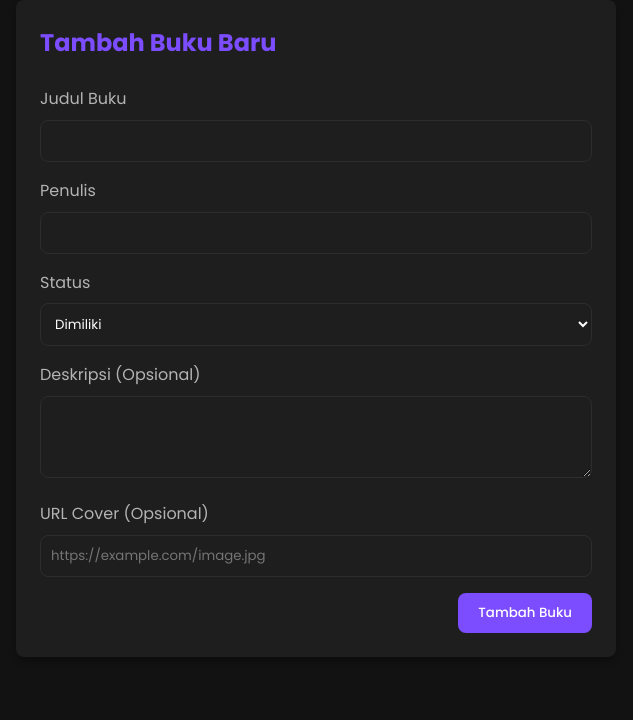
BookForm Component › clears validation errors when user types in fields
# Submit form without filling required fields to trigger validation
Click the button "Tambah Buku" at (525, 613), box top-left (458, 593), bottom-right (592, 633)
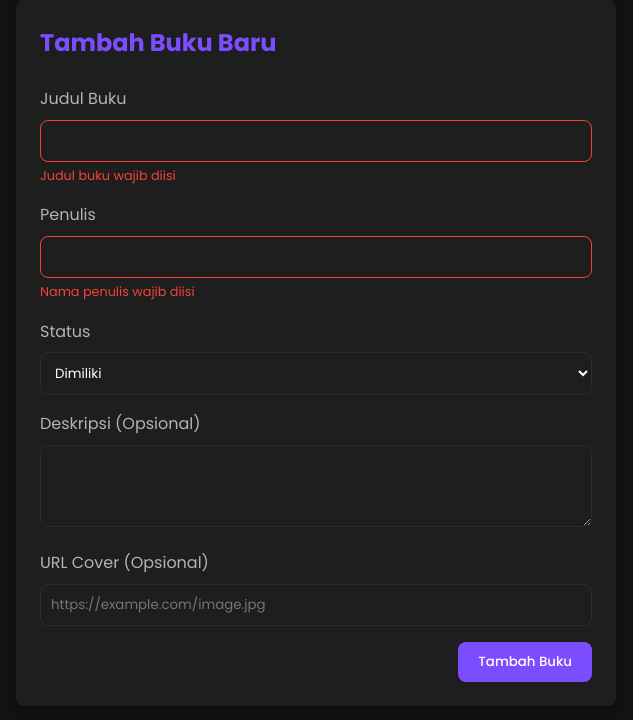
Expected: the text "Judul buku wajib diisi" is shown, top-left (40, 167), bottom-right (176, 184)
# Type in title field
Type "Harry Potter" into the field labelled "Judul Buku" at (316, 141), box top-left (40, 120), bottom-right (592, 162)
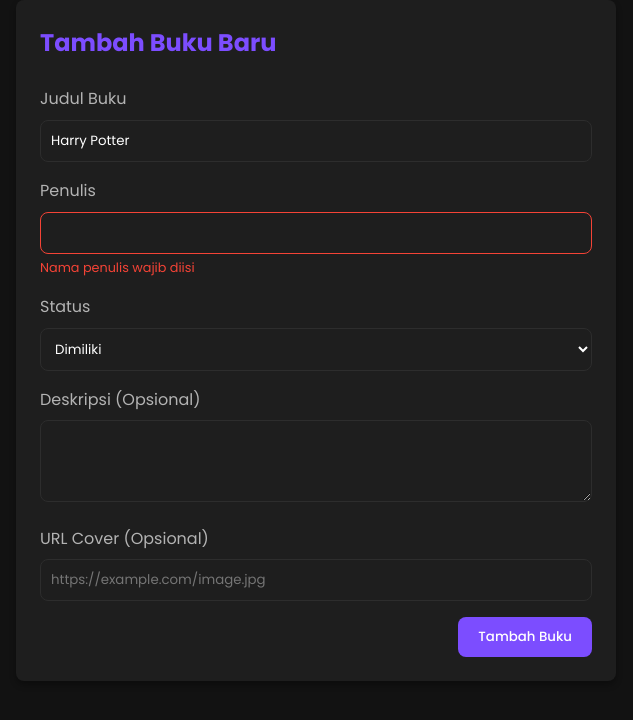
Expected: the text "Judul buku wajib diisi" is gone
